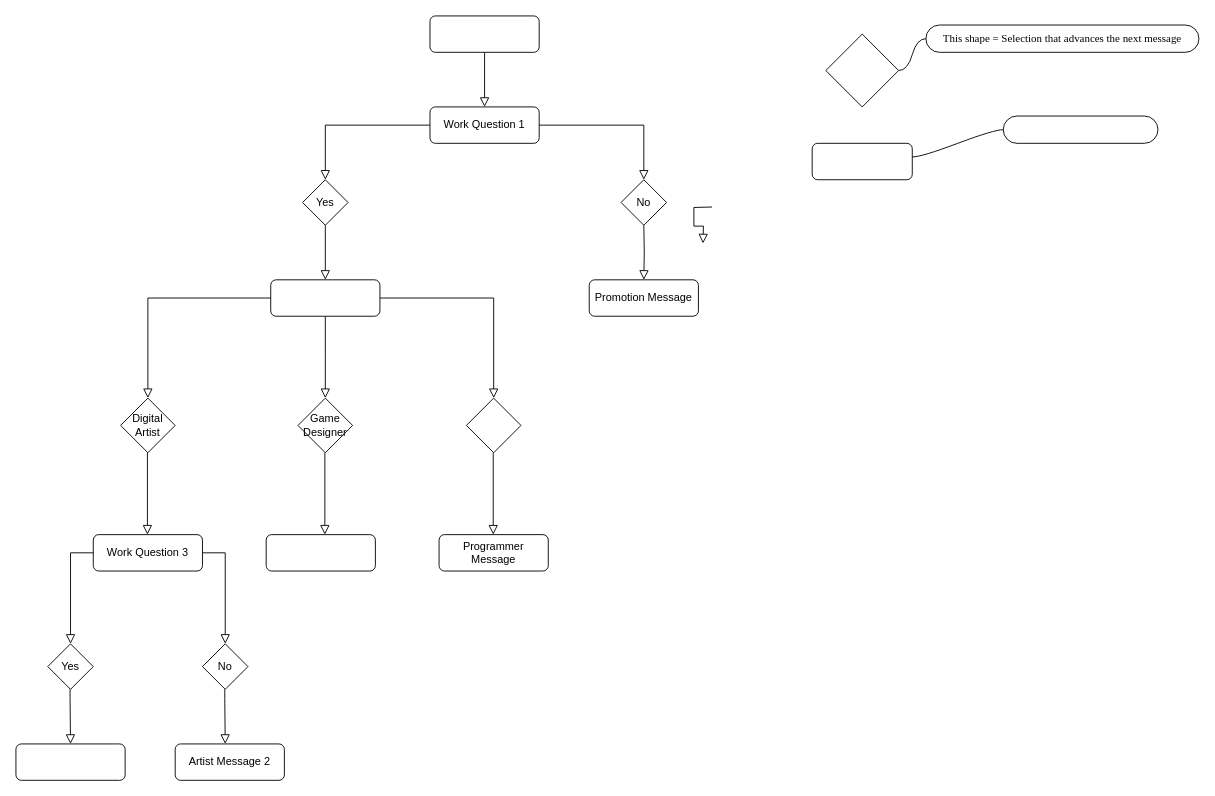
The diagram is 1215 pixels wide and 796 high, and some of its shapes have lost their labels. Here are the shapes that lost their labels. From the top down, the centre of each, then its label:
point (484, 33): Welcome Message
point (1080, 129): This shape = message box
point (325, 297): Work Question 2
point (493, 425): Programmer
point (320, 552): Game Designer message
point (70, 761): Artist Message 1
